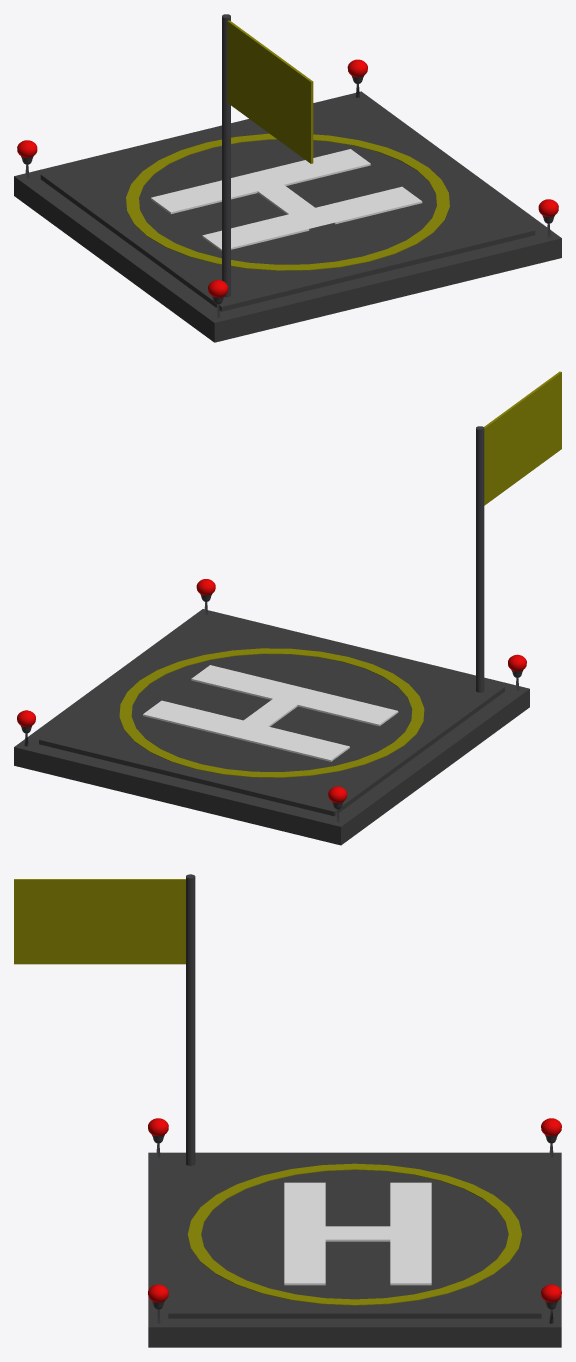
The model's file is landing_pane.fbx.
3 renders of one model, top to bottom at view 1: azimuth 30°, elevation 25°; view 2: azimuth 150°, elevation 25°; view 3: azimuth 270°, elevation 25°, orthographic. The views are drawn at different scales.
Parts seen in each view (by area): view 1: Cube; view 2: Cube; view 3: Cube.
Part boxes in pixels (x1,y1,x2,y2): Cube: [14, 14, 561, 342]; Cube: [14, 371, 561, 845]; Cube: [14, 874, 561, 1347].
Size of the model in its own units: 401 by 334 by 531.
